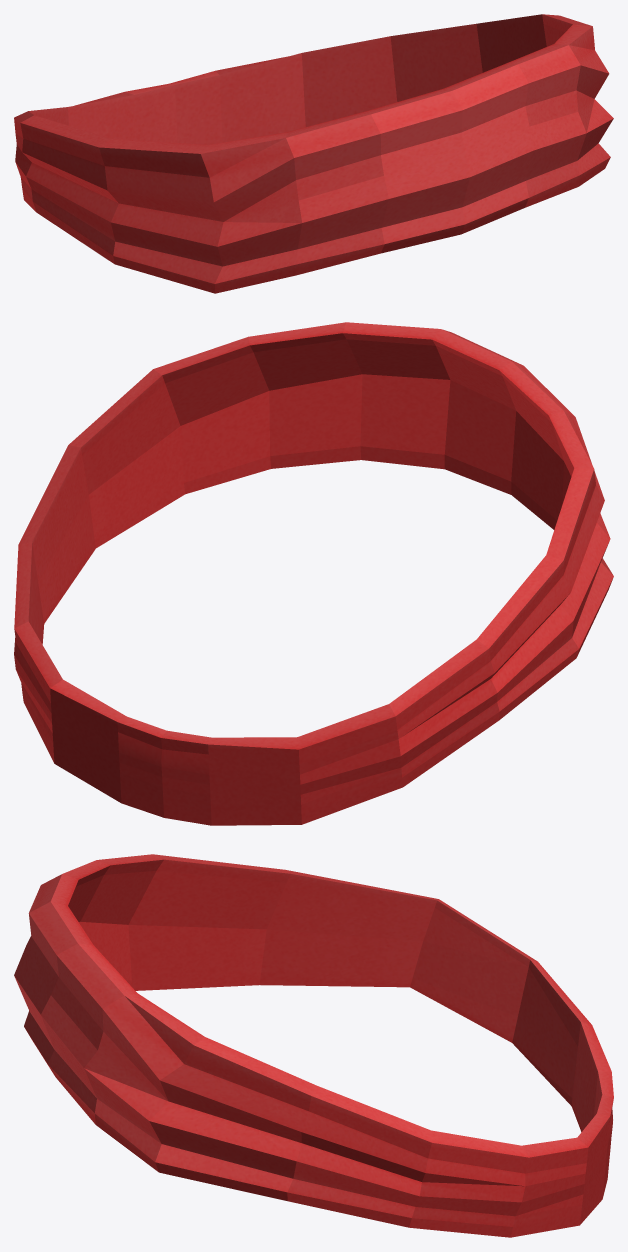
File: Sports_headband_Girl.fbx
3 renders of one model, top to bottom at view 1: azimuth 30°, elevation 25°; view 2: azimuth 150°, elevation 25°; view 3: azimuth 270°, elevation 25°, orthographic.
Visible parts, largest first — view 1: Sports_headband; view 2: Sports_headband; view 3: Sports_headband.
Part boxes in pixels (x1,y1,x2,y2): Sports_headband: [14, 14, 613, 293]; Sports_headband: [14, 322, 613, 825]; Sports_headband: [14, 854, 613, 1237].
Size of the model in its own units: 61.71 by 34.15 by 66.43.
